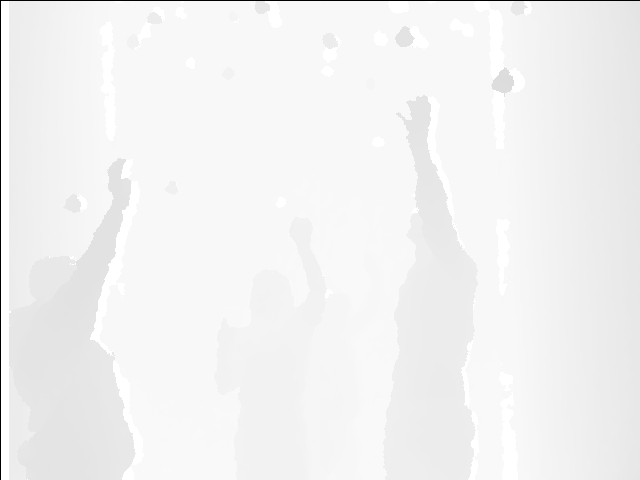hand: (396, 96, 434, 148), (106, 157, 135, 204), (287, 214, 316, 251)
